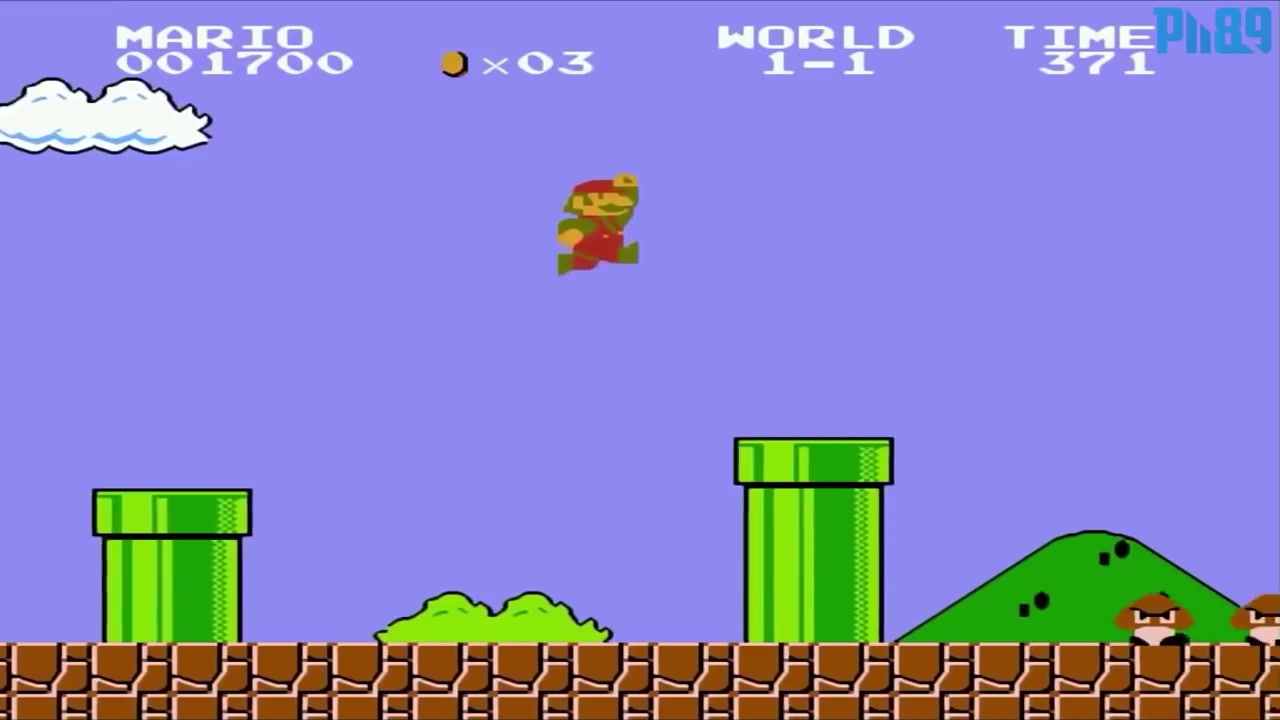mario: (544, 166, 645, 281)
